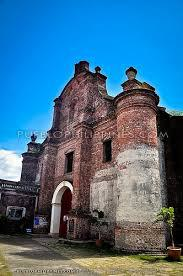Sta. Maria Church: (20, 59, 168, 252)
Unfinished Paint: (91, 143, 164, 221)
